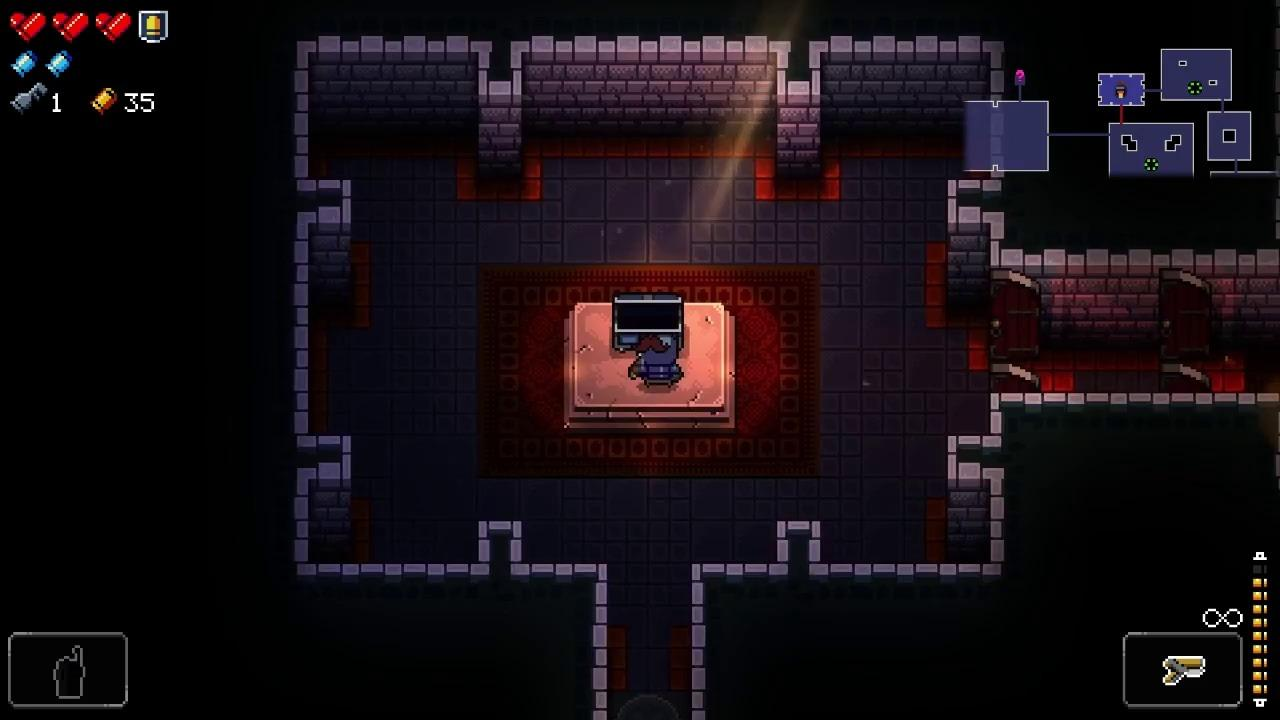blue_chest: (612, 293, 684, 352)
player: (636, 335, 679, 388)
unlocked_door: (988, 266, 1042, 392), (1162, 269, 1212, 393)
